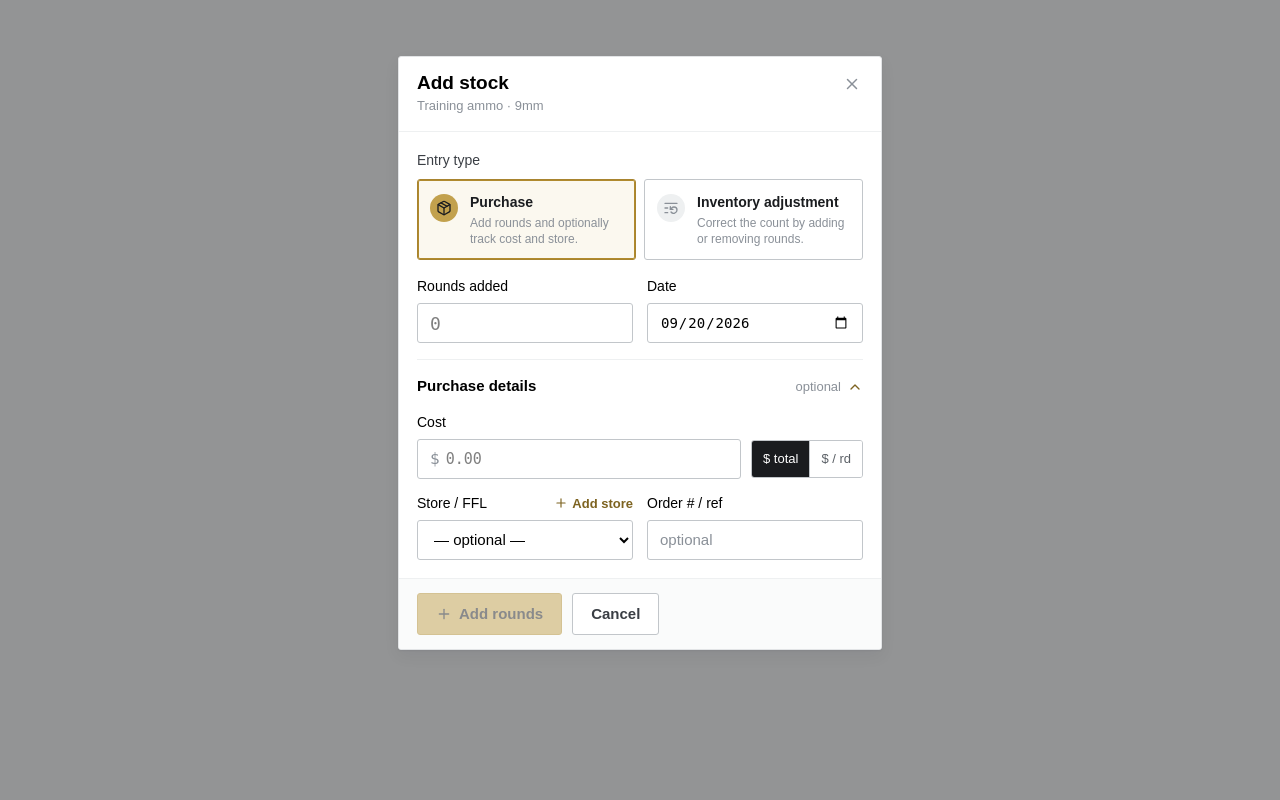
it: AddStockModal › uses descriptive entry type choices and reveals only purchase fields for purchases
Expected: the element with class "modal-shell" is shown, [398, 56, 882, 650]
Step 1. Click the radio button that starts with "Inventory adjustment" → (754, 220), box [644, 179, 863, 260]
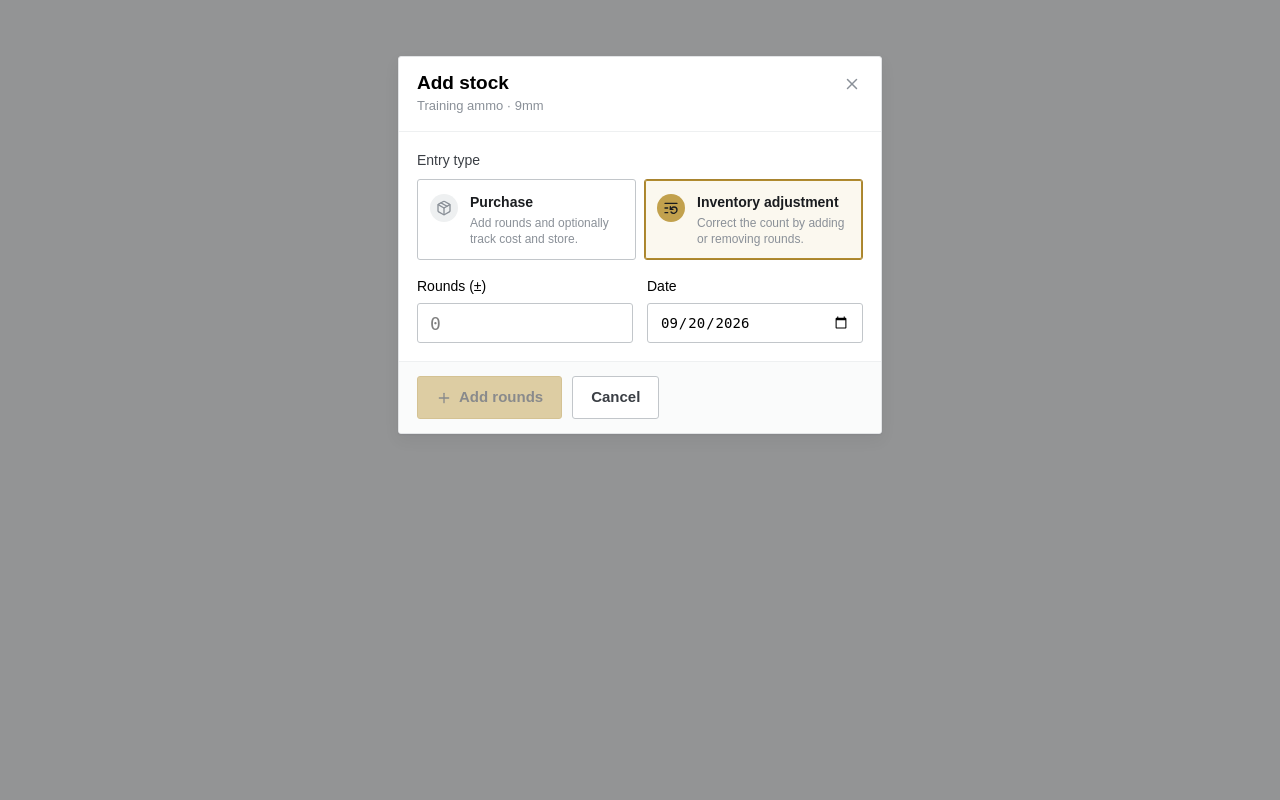
Expected: the text "Correct the count by adding or removing rounds." is shown, [697, 215, 850, 247]
Expected: the text "Purchase details" is gone
Expected: the text "Rounds (±)" is shown, [417, 278, 486, 294]
